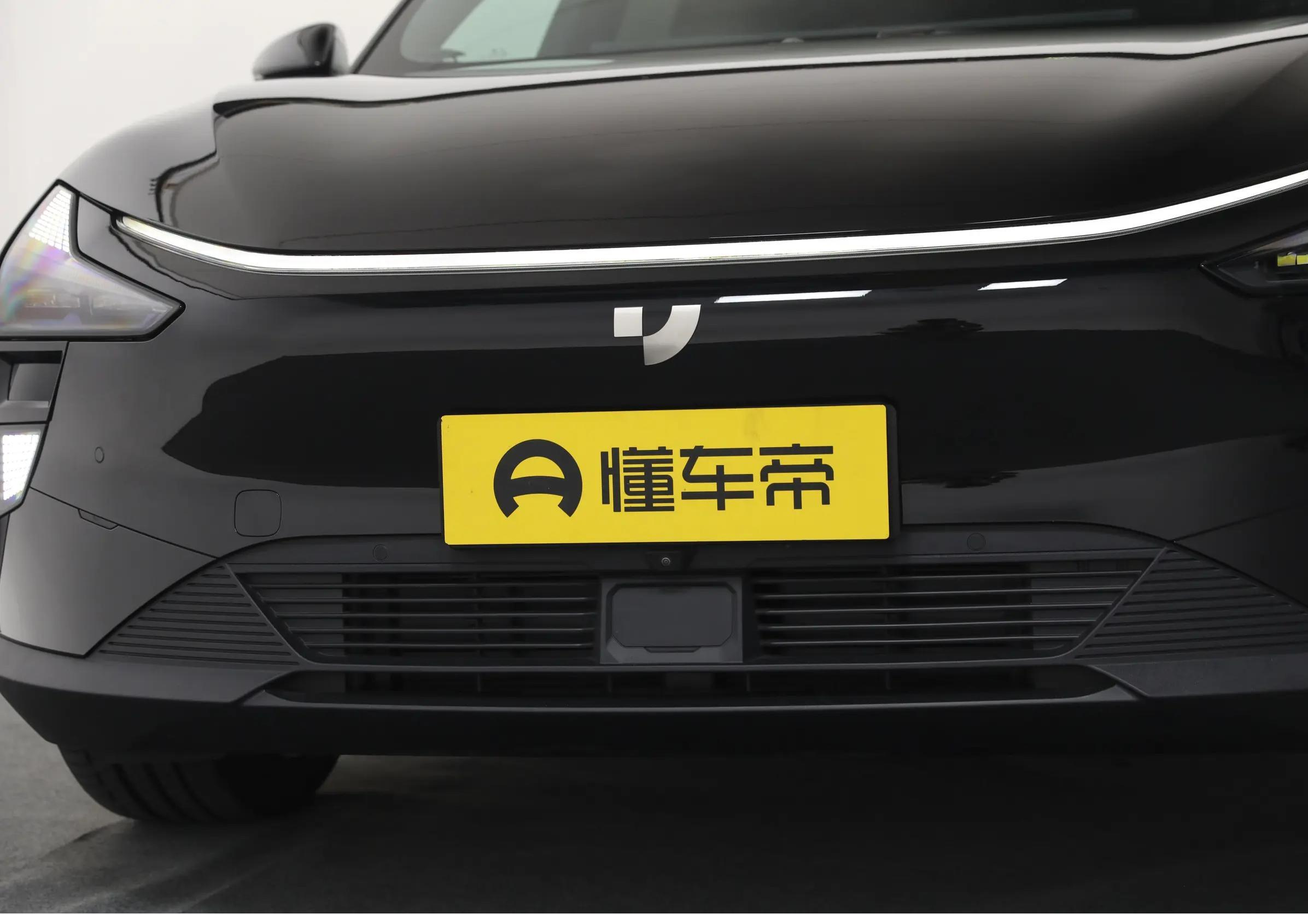JIYUE: (611, 303, 702, 366)
